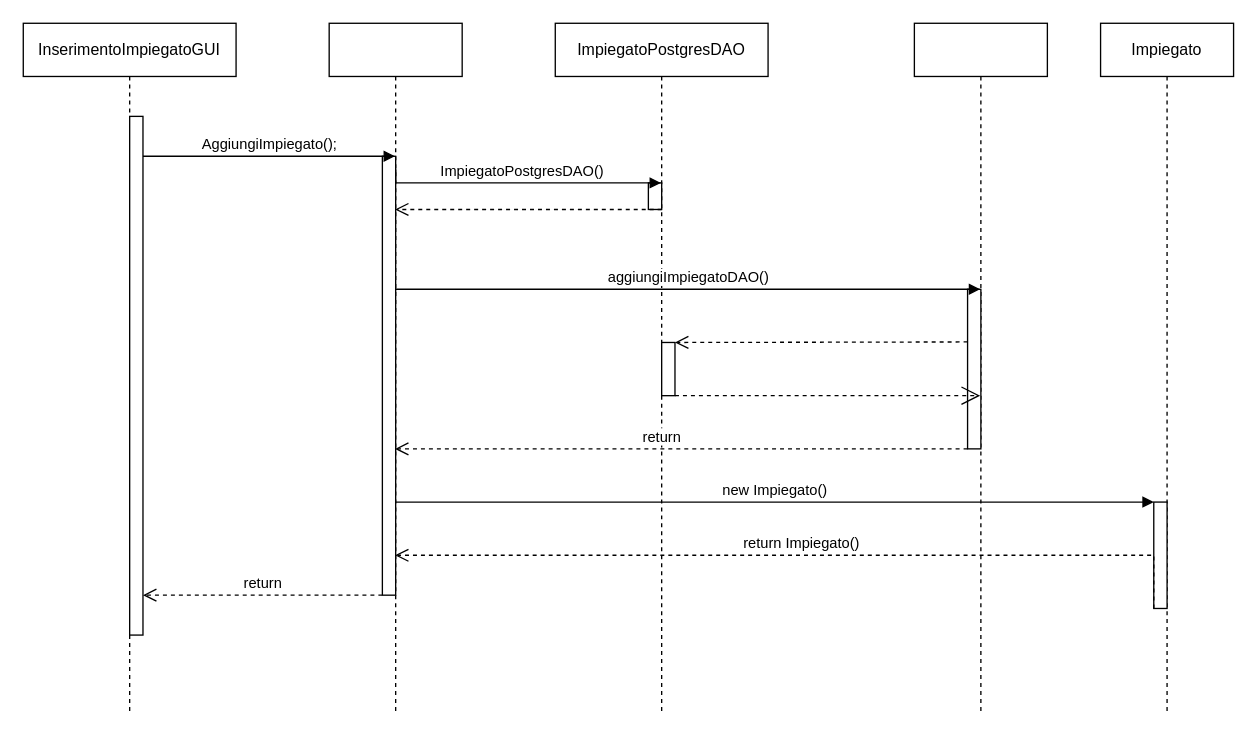
Some shapes in this 1257 by 738 pixel diagram are drawn without their labels. Here are the shapes that lost their labels. From the top down, the centre of each, then its label:
At [395,368]: "Controller".
At [980,368]: "ImpiegatoDAO".
